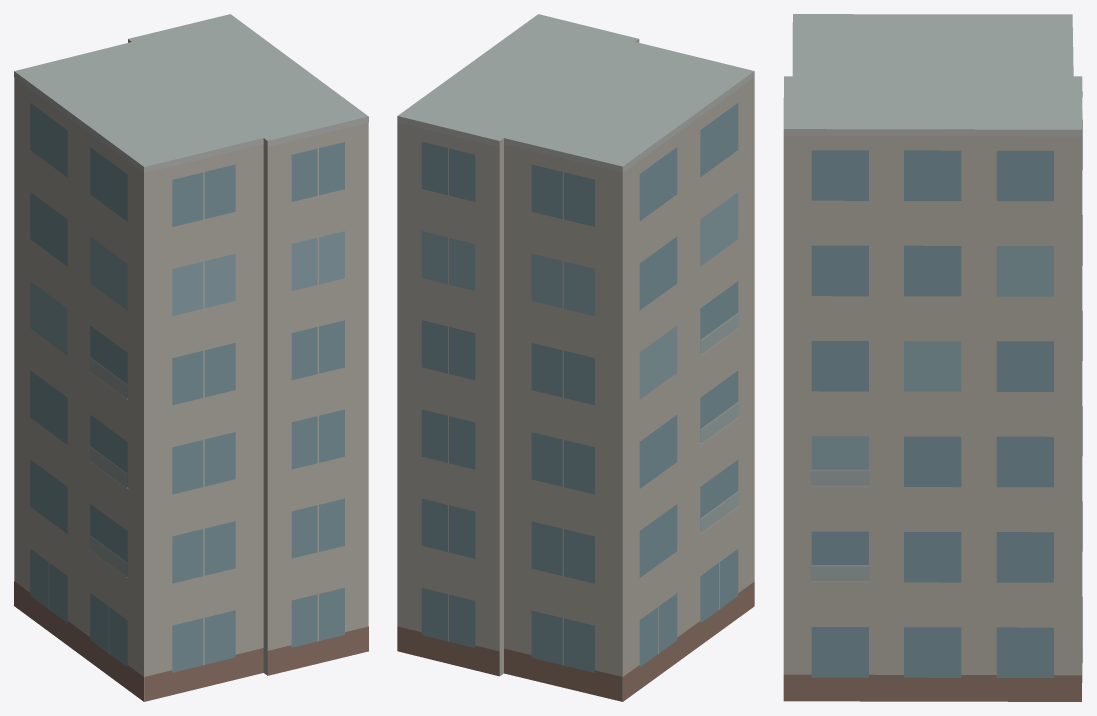
The model's file is survey-upis-32955381.glb.
3 renders of one model, left to right at view 1: azimuth 30°, elevation 25°; view 2: azimuth 150°, elevation 25°; view 3: azimuth 270°, elevation 25°, orthographic. The views are drawn at different scales.
Parts seen in each view (by area): view 1: survey-upis-32955381.tmp; view 2: survey-upis-32955381.tmp; view 3: survey-upis-32955381.tmp.
Boxes of the visible parts, box(x1,y1,x2,y2) form: survey-upis-32955381.tmp: box(14, 14, 368, 701); survey-upis-32955381.tmp: box(397, 14, 754, 701); survey-upis-32955381.tmp: box(783, 14, 1082, 701).
Size of the model in its own units: 9.23 by 21.2 by 10.05.
